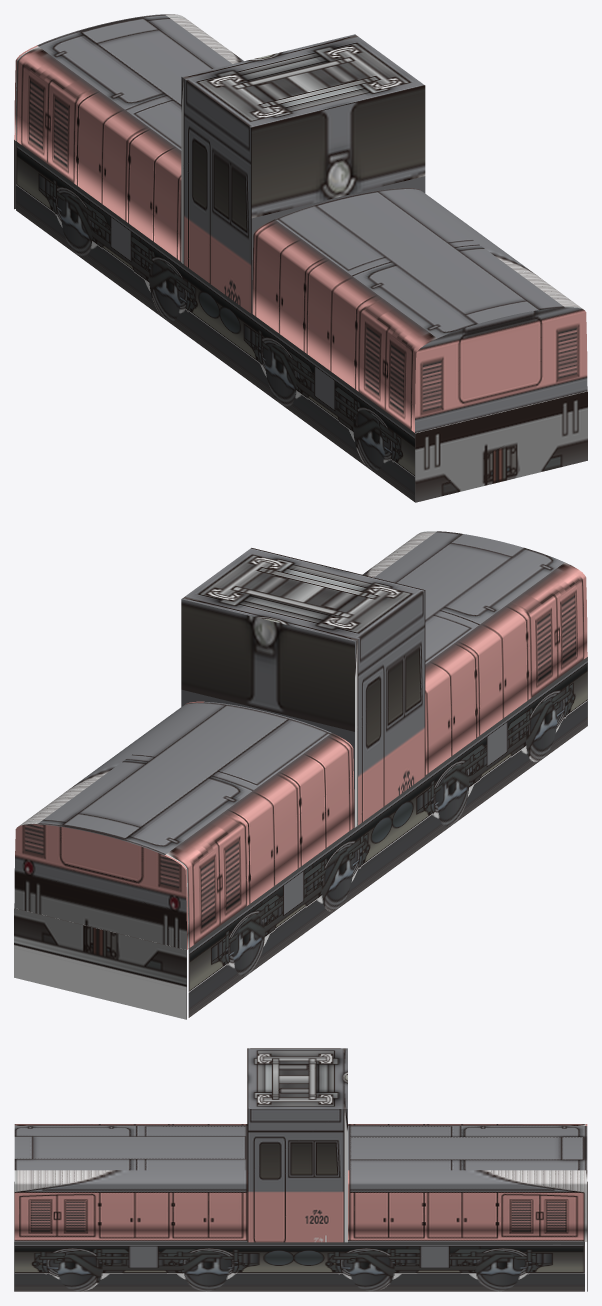
File: car1.glb
3 views of the same model, one above another, from view 1: azimuth 30°, elevation 25°; view 2: azimuth 150°, elevation 25°; view 3: azimuth 270°, elevation 25° (orthographic). The views are drawn at different scales.
Visible parts, largest first — view 1: toyamatihou-deki12020-car1; view 2: toyamatihou-deki12020-car1; view 3: toyamatihou-deki12020-car1.
Part boxes in pixels (x1=…): toyamatihou-deki12020-car1: x1=14, y1=14, x2=587, y2=502; toyamatihou-deki12020-car1: x1=14, y1=531, x2=587, y2=1019; toyamatihou-deki12020-car1: x1=14, y1=1048, x2=587, y2=1291.
Size of the model in its own units: 2.76 by 3.87 by 11.03.
14 materials, 13 textured.
